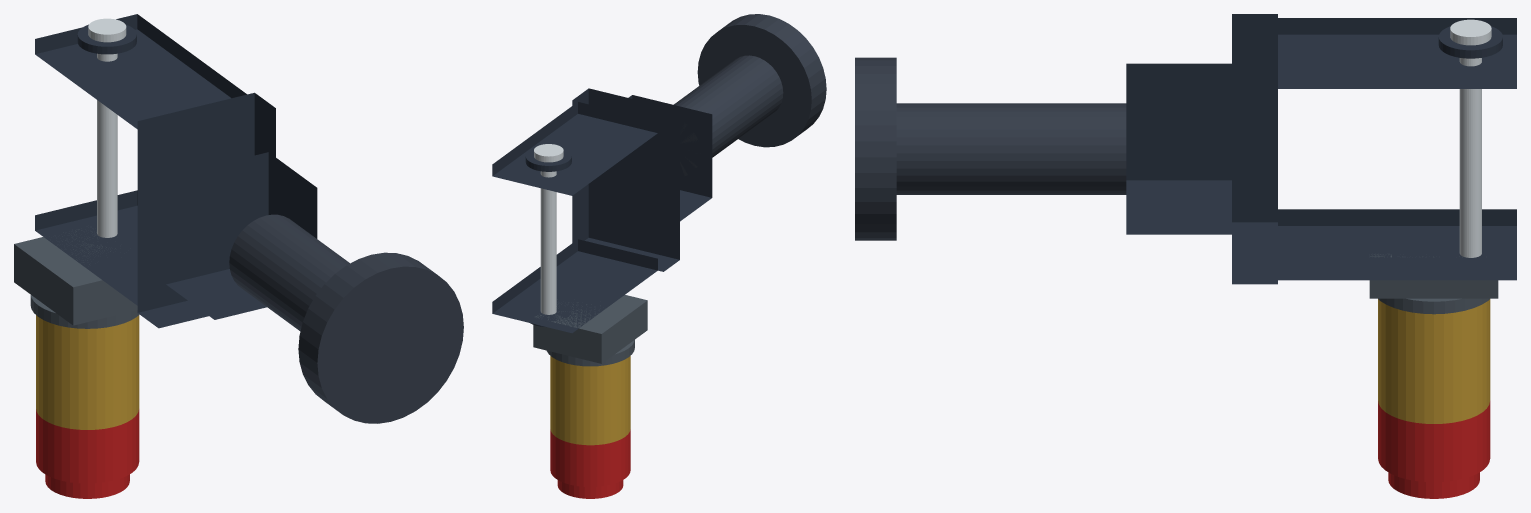
The model's file is fr_steer_bracket.dae.
The picture shows the model from 3 angles, left to right: view 1: azimuth 30°, elevation 25°; view 2: azimuth 150°, elevation 25°; view 3: azimuth 270°, elevation 25°; orthographic projection. The views are drawn at different scales.
Visible parts, largest first — view 1: RootNode (×6); view 2: RootNode (×6); view 3: RootNode (×6).
Boxes of the visible parts, x1,y1,x2,y2 form: RootNode (×6): (14, 14, 463, 498); RootNode (×6): (492, 14, 826, 498); RootNode (×6): (855, 14, 1516, 498).
Bounding box in the file's own units: 0.0435 × 0.113 × 0.144.
